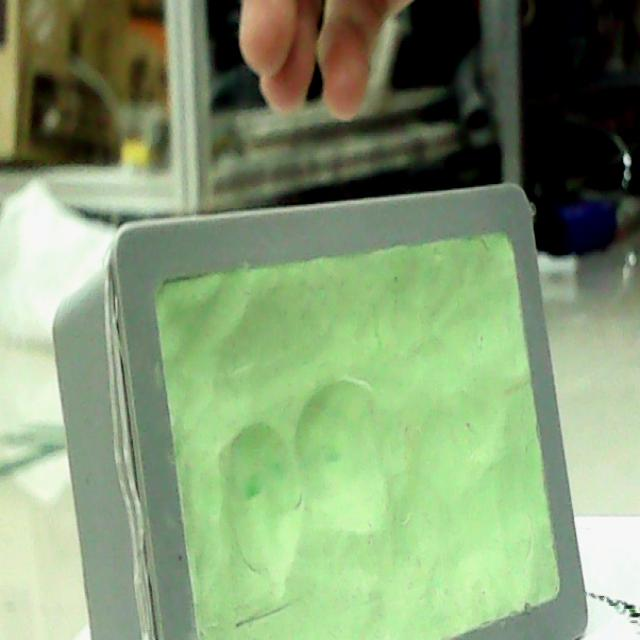block: (51, 178, 583, 640)
